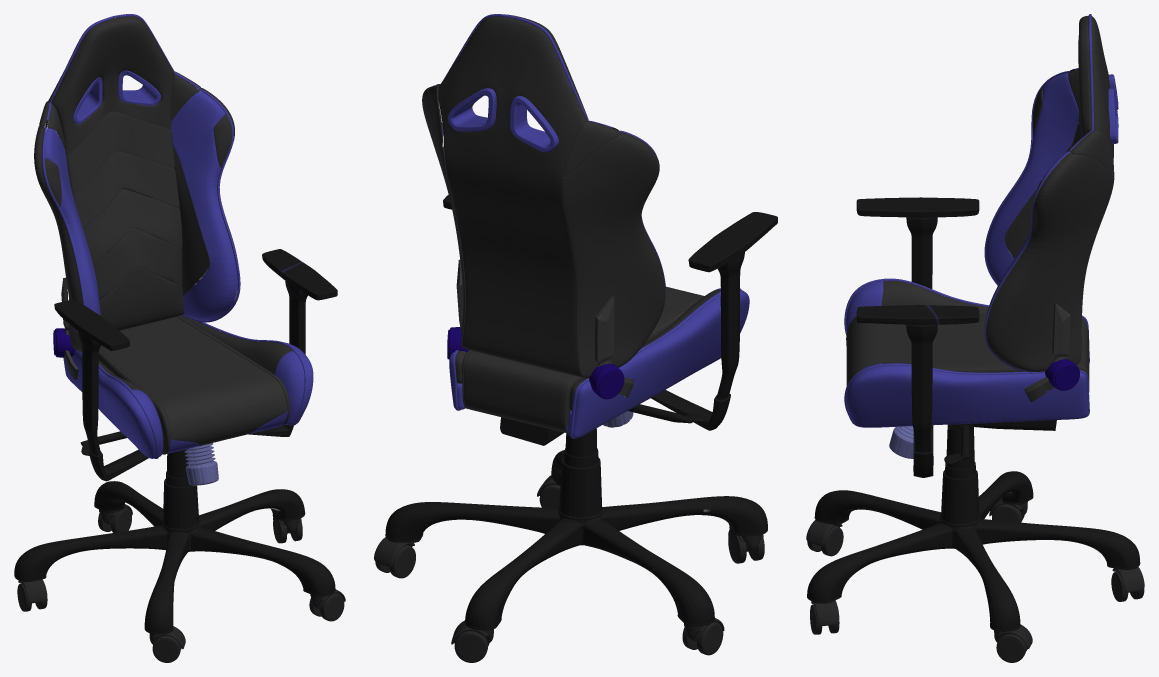
File: gaming chair.glb
3 views of the same model, side by side, from view 1: azimuth 30°, elevation 25°; view 2: azimuth 150°, elevation 25°; view 3: azimuth 270°, elevation 25° (orthographic). The views are drawn at different scales.
Parts seen in each view (by area): view 1: Group29, _Group9, Group19, Group31, ZBrush_defualt_group, _Group5, Group17, Group12, Group33, Group11, Group21, Group3 (+11 smaller); view 2: Group29, _Group9, Group11, Group19, Group17, ZBrush_defualt_group, _Group10, Group7, Group5, Group25, Group30, _Group8 (+3 smaller); view 3: _Group9, Group30, Group2, Group19, _Group5, Group12, ZBrush_defualt_group, Group29, _Group10, Group35, Group14, Group23 (+4 smaller).
Boxes of the visible parts, box(x1,y1,x2,y2) form: Group29: box(48, 16, 183, 330); _Group9: box(14, 443, 345, 662); Group19: box(98, 316, 289, 454); Group31: box(170, 91, 238, 321); ZBrush_defualt_group: box(54, 300, 148, 481); _Group5: box(248, 249, 337, 436); Group17: box(63, 350, 155, 458); Group12: box(44, 128, 100, 315); Group33: box(173, 146, 209, 295); Group11: box(34, 126, 82, 351); Group21: box(179, 315, 292, 374); Group3: box(257, 341, 304, 424); Group29: box(438, 14, 588, 377); _Group9: box(374, 411, 767, 662); Group11: box(561, 131, 665, 377); Group19: box(462, 286, 704, 433); Group17: box(573, 289, 749, 438); ZBrush_defualt_group: box(651, 212, 777, 430); _Group10: box(447, 259, 634, 399); Group7: box(510, 95, 558, 152); Group5: box(563, 121, 619, 177); Group25: box(447, 88, 496, 131); Group30: box(422, 87, 465, 347); _Group8: box(628, 404, 708, 423); _Group9: box(806, 420, 1144, 662); Group30: box(986, 152, 1114, 371); Group2: box(846, 365, 1088, 427); Group19: box(846, 313, 1089, 392); _Group5: box(856, 305, 979, 477); Group12: box(985, 73, 1079, 285); ZBrush_defualt_group: box(856, 197, 979, 288); Group29: box(1070, 15, 1113, 162); _Group10: box(1024, 303, 1079, 402); Group35: box(881, 280, 1086, 325); Group14: box(1004, 144, 1072, 258); Group23: box(1071, 130, 1113, 170).
Bounding box in the file's own units: 317 × 575 × 310.
Materials: 1 (1 with a texture image).
